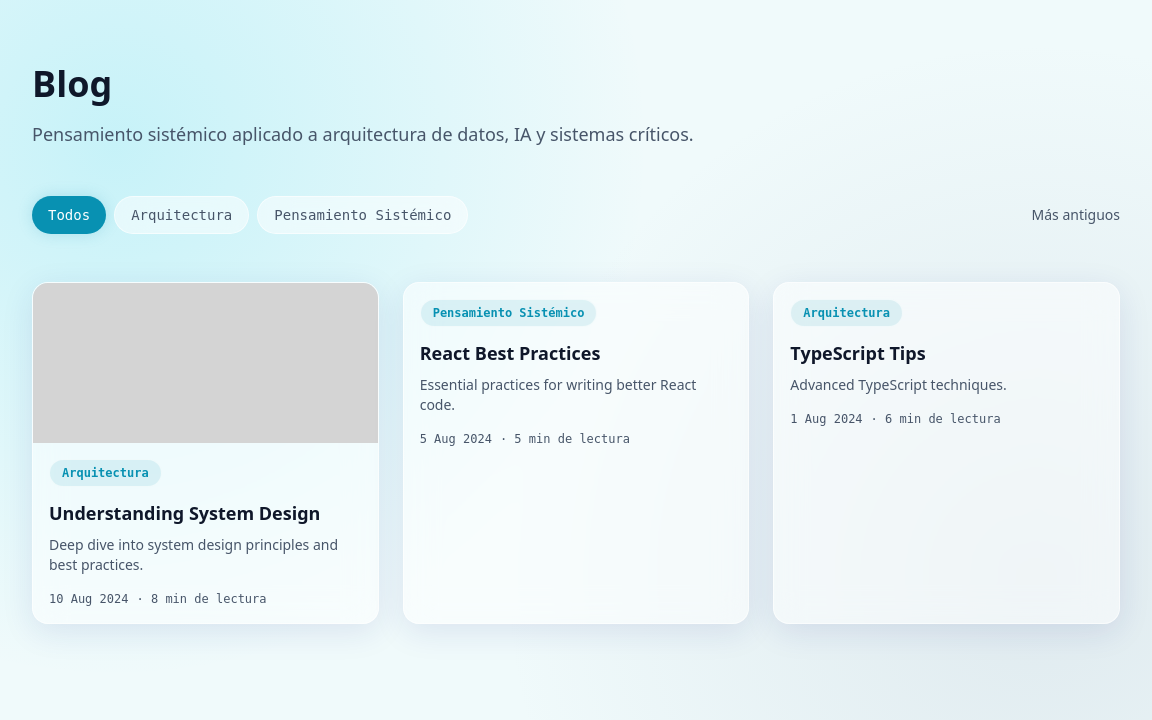
it: BlogPage › renders a sort toggle and switches label on click
What coordinates should you click on to do the following:
click the button "Más antiguos"
I would click on:
 (1076, 215)
Its box is [1032,205,1120,225].
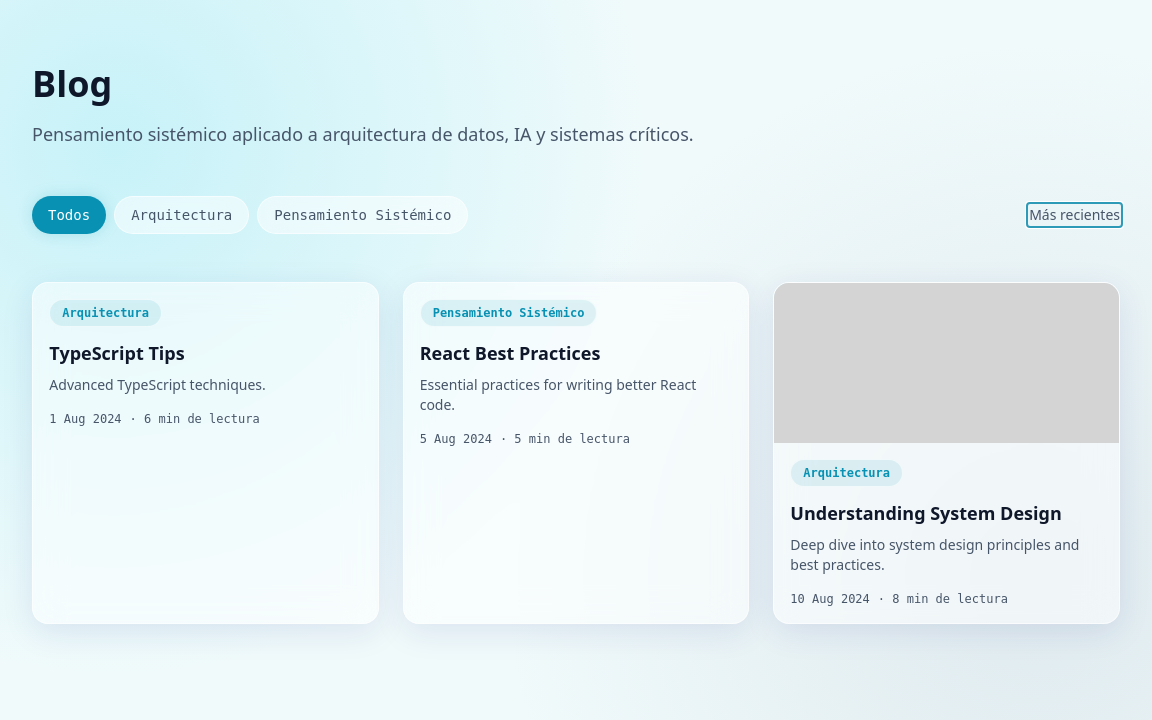
Expected: the button "Más recientes" is shown, [1029,205,1120,225]
